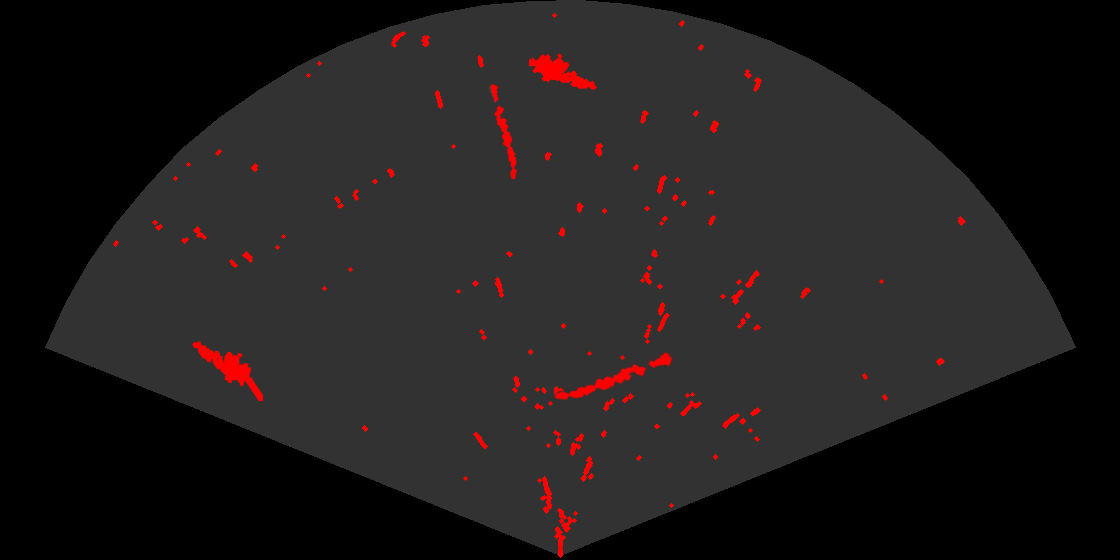chain: (553, 351, 674, 402), (489, 81, 519, 181)
frogman: (191, 340, 263, 401), (529, 52, 597, 91)
